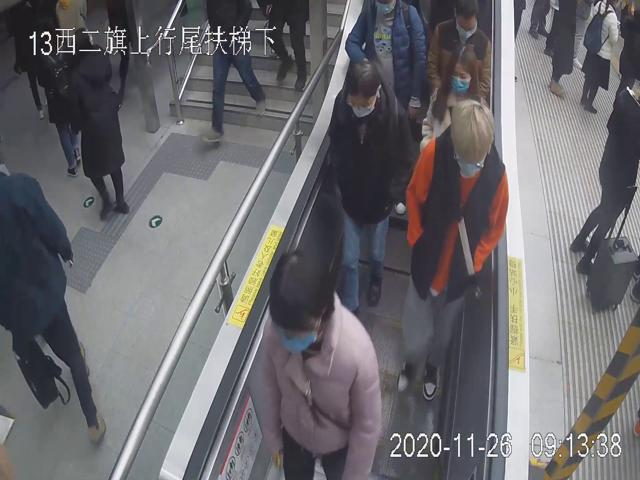person: (398, 99, 511, 400), (261, 243, 382, 480), (327, 54, 415, 316), (419, 44, 488, 158), (427, 0, 494, 100)
